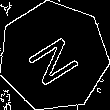N_NE: (21, 26, 86, 87)
